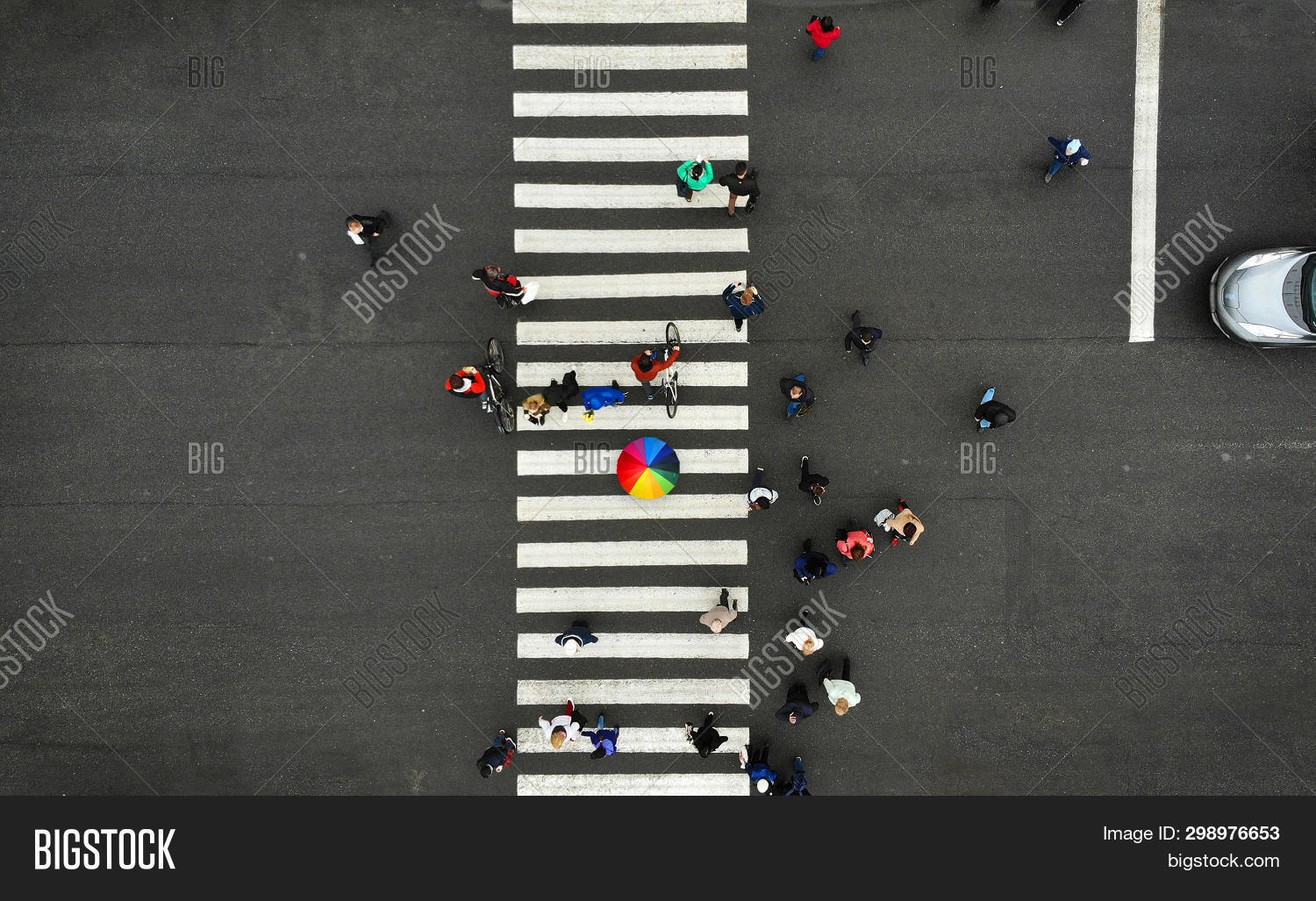Crosswalk: (506, 10, 755, 804)
